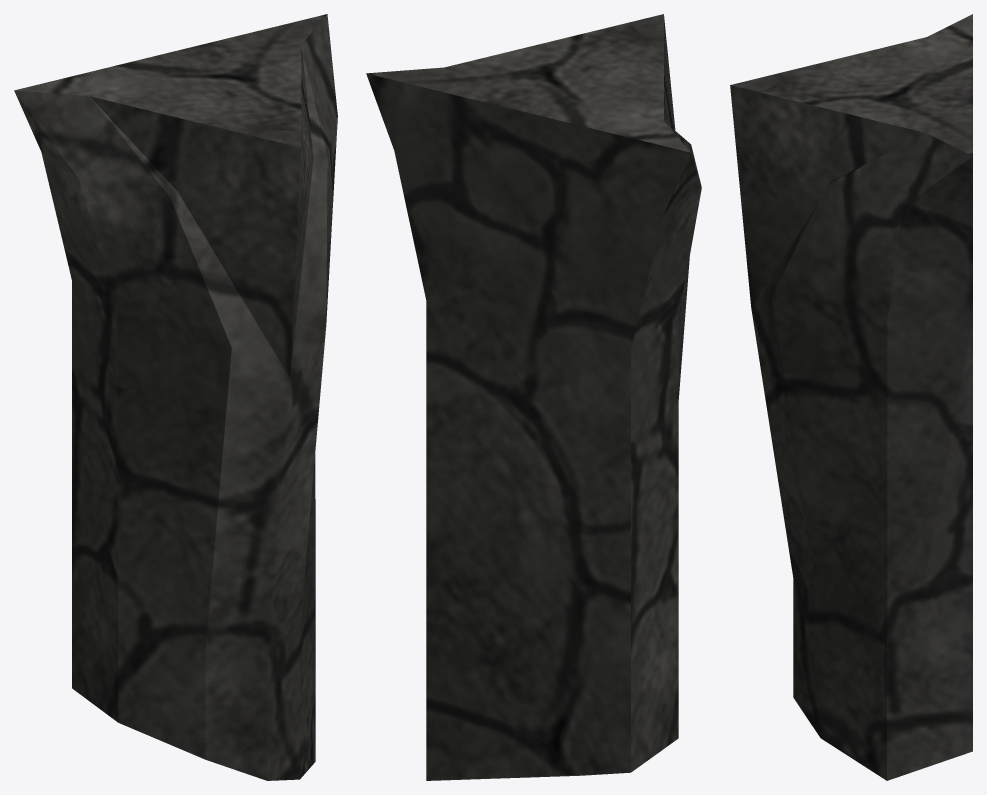
File: stone_pillar_7.fbx
3 renders of one model, left to right at view 1: azimuth 30°, elevation 25°; view 2: azimuth 150°, elevation 25°; view 3: azimuth 270°, elevation 25°, orthographic. The views are drawn at different scales.
Visible parts, largest first — view 1: ruraltown_house_standard.005; view 2: ruraltown_house_standard.005; view 3: ruraltown_house_standard.005.
Part boxes in pixels (x1=…): ruraltown_house_standard.005: x1=14, y1=14, x2=337, y2=780; ruraltown_house_standard.005: x1=366, y1=14, x2=701, y2=780; ruraltown_house_standard.005: x1=730, y1=14, x2=972, y2=780.
Bounding box in the file's own units: 51.18 × 109 × 36.92.
